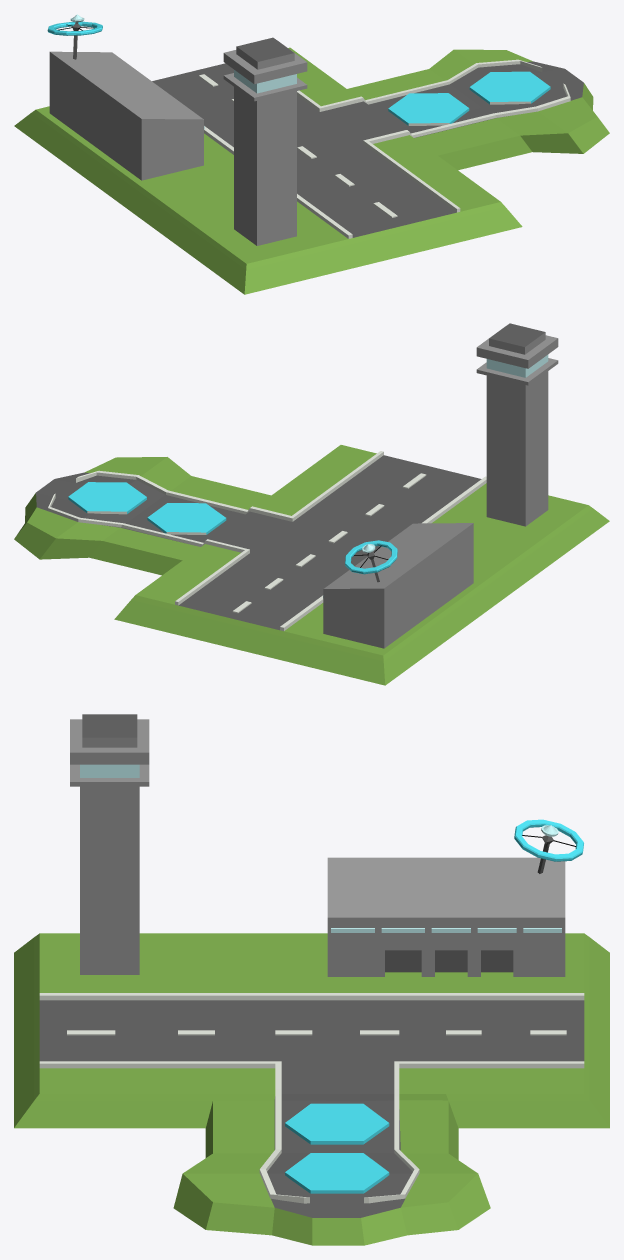
The model's file is space center model.fbx.
3 views of the same model, one above another, from view 1: azimuth 30°, elevation 25°; view 2: azimuth 150°, elevation 25°; view 3: azimuth 270°, elevation 25° (orthographic). The views are drawn at different scales.
Visible parts, largest first — view 1: polySurface13; view 2: polySurface13; view 3: polySurface13.
Boxes of the visible parts, x1,y1,x2,y2 form: polySurface13: (14,14,609,294); polySurface13: (14,323,609,685); polySurface13: (14,714,609,1245).
Size of the model in its own units: 21.08 by 8.93 by 18.13.
Materials: 1 (1 with a texture image).
